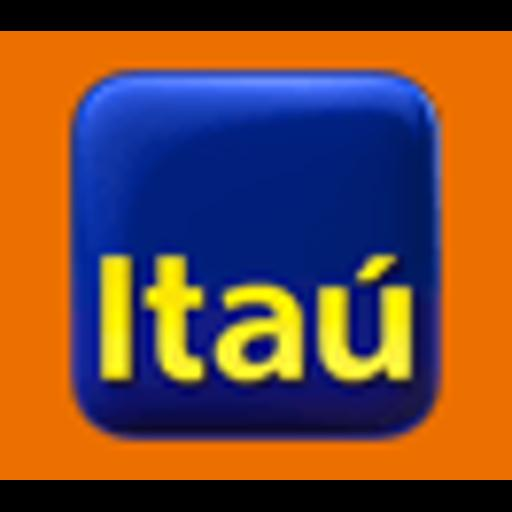Itau Unibanco S-A: (0, 31, 512, 480)
